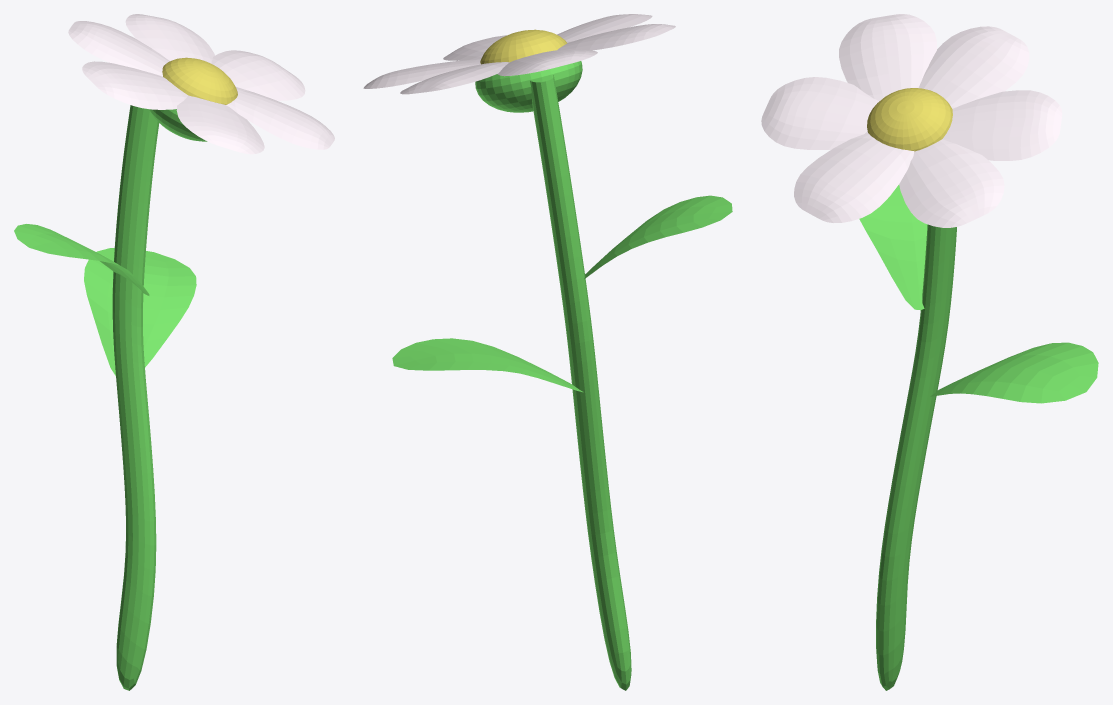
File: kwiatek3.fbx
3 renders of one model, left to right at view 1: azimuth 30°, elevation 25°; view 2: azimuth 150°, elevation 25°; view 3: azimuth 270°, elevation 25°, orthographic. The views are drawn at different scales.
Visible parts, largest first — view 1: Cube.002, Plane.007, Plane.006, Plane.005, Plane.004, Plane.003, Plane.001, Plane.002, Sphere, Plane.008, Sphere.001; view 2: Cube.002, Plane.007, Plane.008, Sphere.001, Sphere, Plane.005, Plane.002, Plane.001, Plane.003, Plane.004, Plane.006; view 3: Cube.002, Plane.006, Plane.003, Plane.004, Plane.002, Plane.005, Plane.007, Plane.001, Plane.008, Sphere.
Boxes of the visible parts, x1,y1,x2,y2 form: Cube.002: (112, 105, 159, 690); Plane.007: (84, 248, 196, 375); Plane.006: (226, 87, 334, 149); Plane.005: (82, 61, 187, 109); Plane.004: (176, 95, 264, 154); Plane.003: (211, 50, 305, 100); Plane.001: (68, 21, 169, 76); Plane.002: (125, 14, 214, 63); Sphere: (162, 57, 237, 104); Plane.008: (14, 224, 149, 295); Sphere.001: (149, 109, 207, 141); Cube.002: (530, 75, 631, 690); Plane.007: (392, 338, 583, 392); Plane.008: (584, 195, 732, 278); Sphere.001: (475, 61, 582, 112); Sphere: (480, 29, 566, 64); Plane.005: (558, 24, 675, 50); Plane.002: (400, 62, 509, 94); Plane.001: (497, 49, 597, 76); Plane.003: (363, 59, 480, 88); Plane.004: (557, 14, 652, 42); Plane.006: (443, 35, 506, 60); Cube.002: (876, 224, 956, 690); Plane.006: (794, 132, 914, 222); Plane.003: (899, 139, 1004, 227); Plane.004: (761, 77, 878, 149); Plane.002: (942, 90, 1062, 160); Plane.005: (839, 14, 936, 101); Plane.007: (930, 342, 1098, 403); Plane.001: (918, 26, 1029, 108); Plane.008: (859, 185, 927, 310); Sphere: (867, 88, 952, 151).
Bounding box in the file's own units: 18.62 × 36.46 × 16.91.
